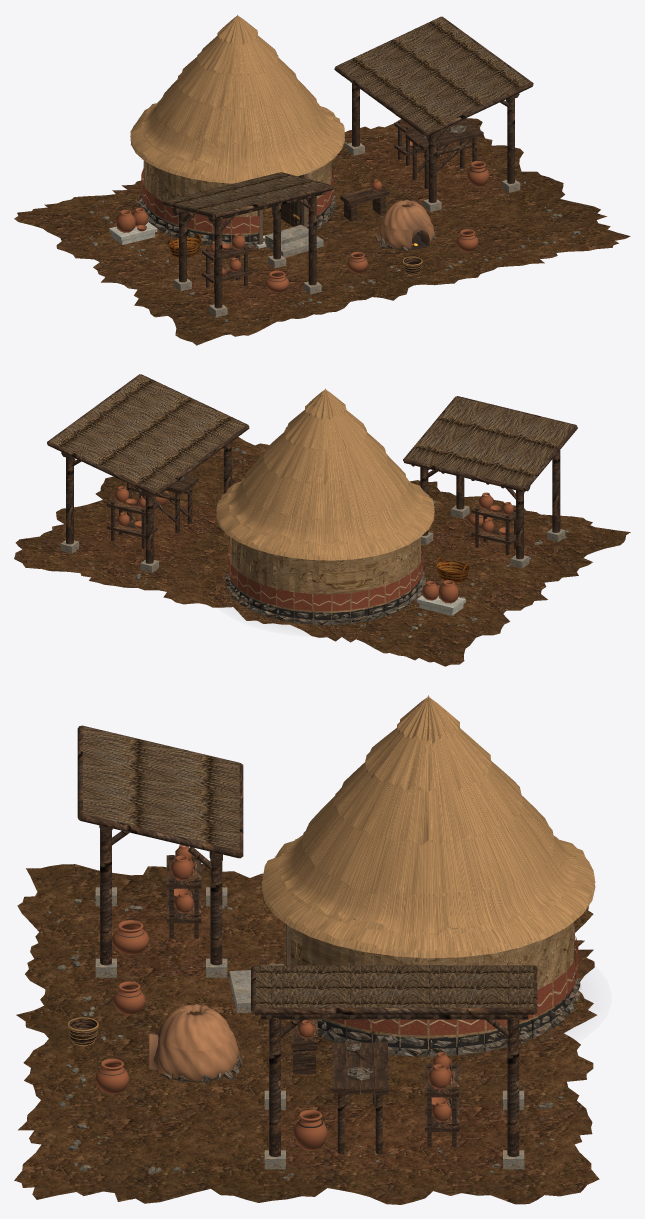
Rendered from pottery_kiln@1.glb.
3 renders of one model, top to bottom at view 1: azimuth 30°, elevation 25°; view 2: azimuth 150°, elevation 25°; view 3: azimuth 270°, elevation 25°, orthographic. The views are drawn at different scales.
Visible parts, largest first — view 1: part_1, part_20, part_13, part_8, part_11, part_14, part_5, part_12, part_16, part_23, part_4, part_2 (+2 smaller); view 2: part_1, part_20, part_13, part_8, part_5, part_11, part_23, part_14, part_4, part_12, part_22, part_19 (+2 smaller); view 3: part_1, part_20, part_13, part_8, part_11, part_5, part_14, part_16, part_4, part_23, part_12, part_22 (+1 smaller).
Boxes of the visible parts, x1,y1,x2,y2 form: part_1: [14, 118, 630, 345]; part_20: [130, 14, 344, 183]; part_13: [165, 17, 530, 213]; part_8: [162, 16, 533, 308]; part_11: [184, 140, 506, 313]; part_14: [116, 120, 489, 292]; part_5: [143, 153, 331, 241]; part_12: [173, 143, 520, 316]; part_16: [268, 199, 475, 281]; part_23: [141, 168, 333, 233]; part_4: [138, 125, 466, 251]; part_2: [88, 132, 580, 325]; part_1: [14, 437, 630, 666]; part_20: [216, 388, 434, 560]; part_13: [50, 374, 574, 491]; part_8: [47, 374, 577, 563]; part_5: [229, 535, 421, 619]; part_11: [74, 497, 554, 568]; part_23: [227, 545, 423, 611]; part_14: [114, 486, 513, 603]; part_4: [179, 476, 426, 625]; part_12: [60, 492, 565, 572]; part_22: [230, 577, 421, 620]; part_19: [434, 557, 470, 582]; part_1: [14, 864, 599, 1204]; part_20: [261, 695, 595, 958]; part_13: [83, 726, 533, 1007]; part_8: [77, 725, 537, 1156]; part_11: [112, 902, 507, 1168]; part_5: [290, 903, 574, 1048]; part_14: [95, 844, 453, 1150]; part_16: [100, 928, 239, 1081]; part_4: [165, 969, 580, 1083]; part_23: [330, 936, 578, 1035]; part_12: [95, 887, 524, 1169]; part_22: [317, 974, 575, 1055].
Size of the model in its own units: 9.13 by 3.79 by 6.95.
Materials: 24 (16 with a texture image).
